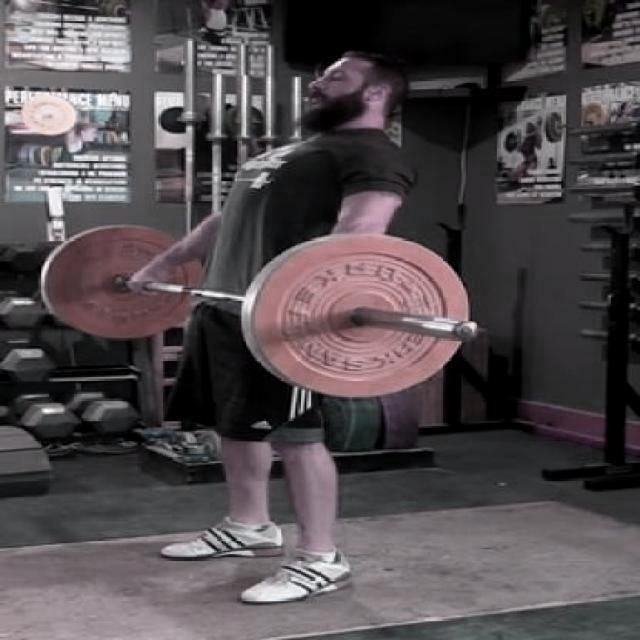barbell: (245, 228, 482, 405)
